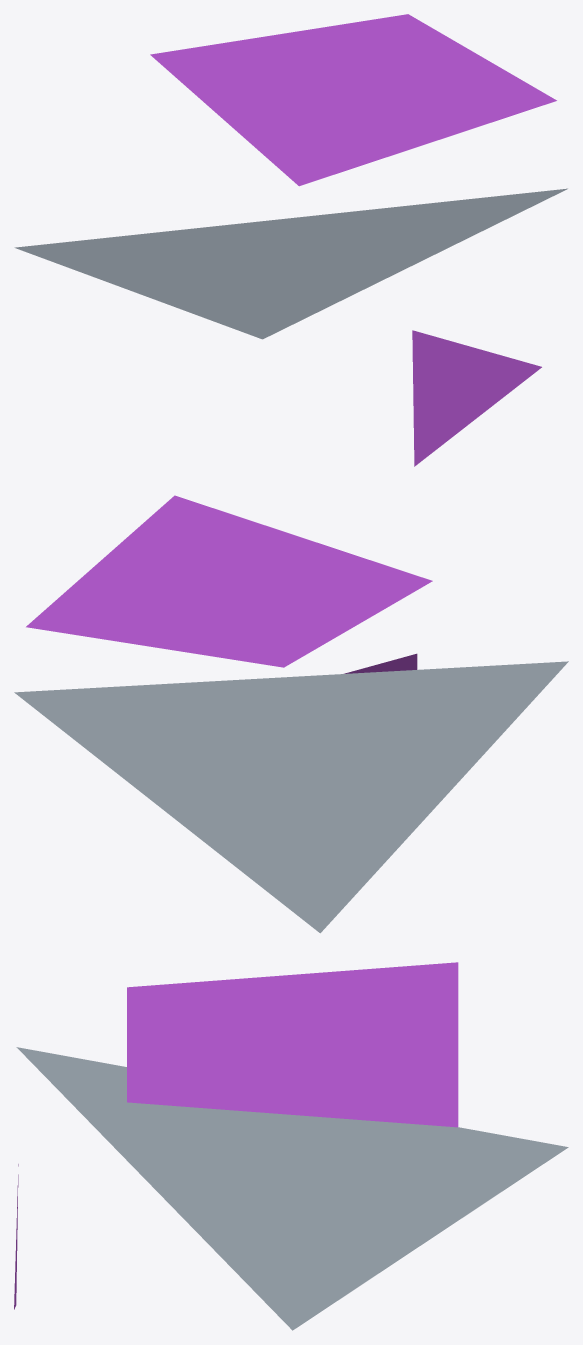
Rendered from CH_ConYard_LOD2.glb.
The picture shows the model from 3 angles, top to bottom: view 1: azimuth 30°, elevation 25°; view 2: azimuth 150°, elevation 25°; view 3: azimuth 270°, elevation 25°; orthographic projection. The views are drawn at different scales.
Parts seen in each view (by area): view 1: EntranceGate; view 2: EntranceGate; view 3: EntranceGate.
Boxes of the visible parts, <box> form: EntranceGate: <box>14,14,567,466</box>; EntranceGate: <box>14,495,568,933</box>; EntranceGate: <box>14,962,568,1330</box>.
Bounding box in the file's own units: 800 × 500 × 803.
